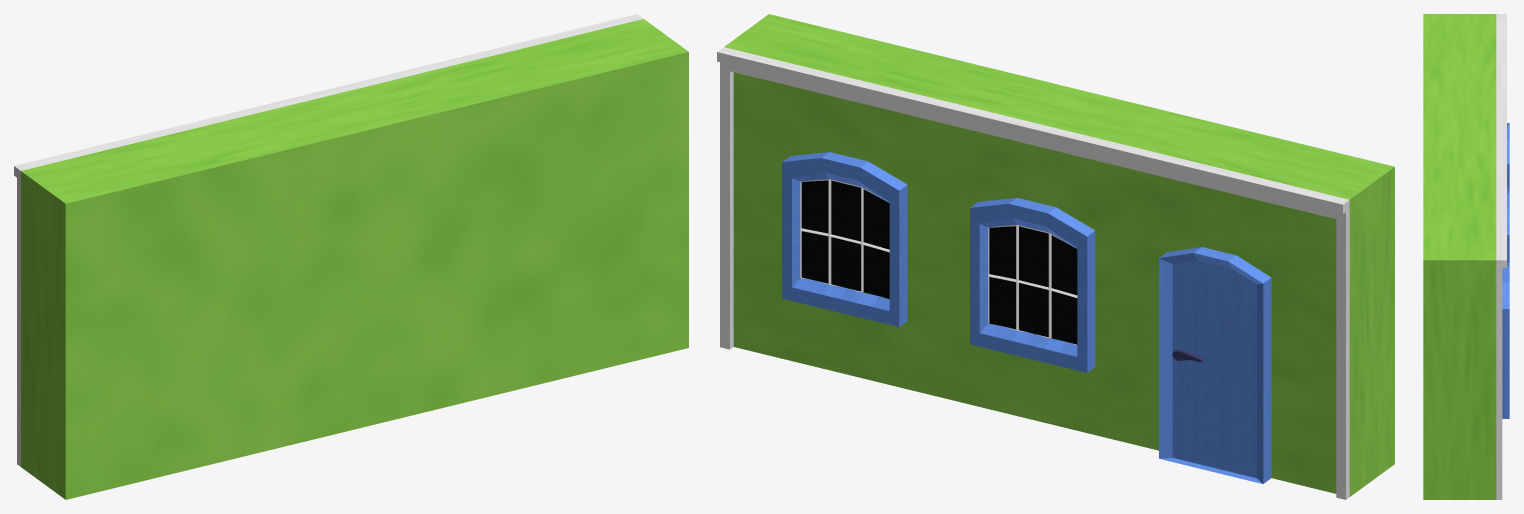
File: casaflo1verde.gltf
3 views of the same model, side by side, from view 1: azimuth 30°, elevation 25°; view 2: azimuth 150°, elevation 25°; view 3: azimuth 270°, elevation 25° (orthographic). The views are drawn at different scales.
Visible parts, largest first — view 1: cuboid; view 2: cuboid (×4); view 3: cuboid (×4).
Part boxes in pixels (bbox=[...]): cuboid: bbox=[14, 14, 688, 499]; cuboid (×4): bbox=[717, 14, 1394, 499]; cuboid (×4): bbox=[1423, 14, 1509, 499].
Bounding box in the file's own units: 3 × 1.36 × 0.4438.
Materials: 1 (1 with a texture image).
